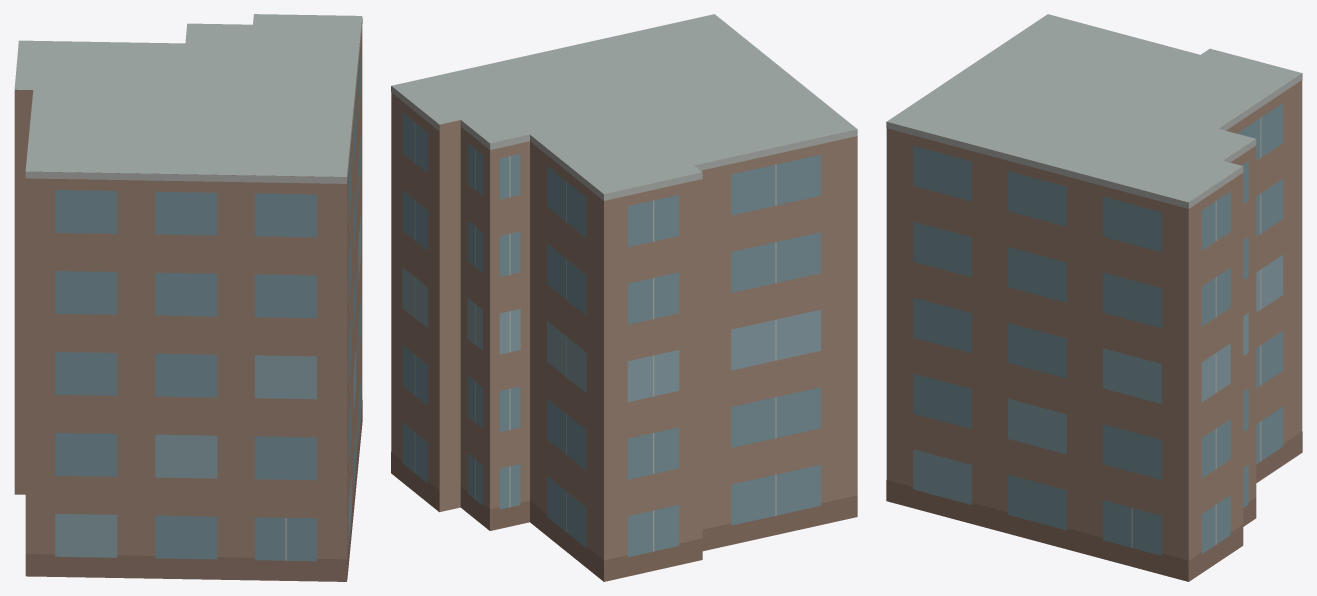
File: survey-upis-32944341.glb
3 renders of one model, left to right at view 1: azimuth 30°, elevation 25°; view 2: azimuth 150°, elevation 25°; view 3: azimuth 270°, elevation 25°, orthographic. The views are drawn at different scales.
Parts seen in each view (by area): view 1: survey-upis-32944341.tmp; view 2: survey-upis-32944341.tmp; view 3: survey-upis-32944341.tmp.
Part boxes in pixels (x1,y1,x2,y2): survey-upis-32944341.tmp: (14, 14, 362, 581); survey-upis-32944341.tmp: (391, 14, 857, 581); survey-upis-32944341.tmp: (886, 14, 1302, 581).
Size of the model in its own units: 15.19 by 14.25 by 14.17.
